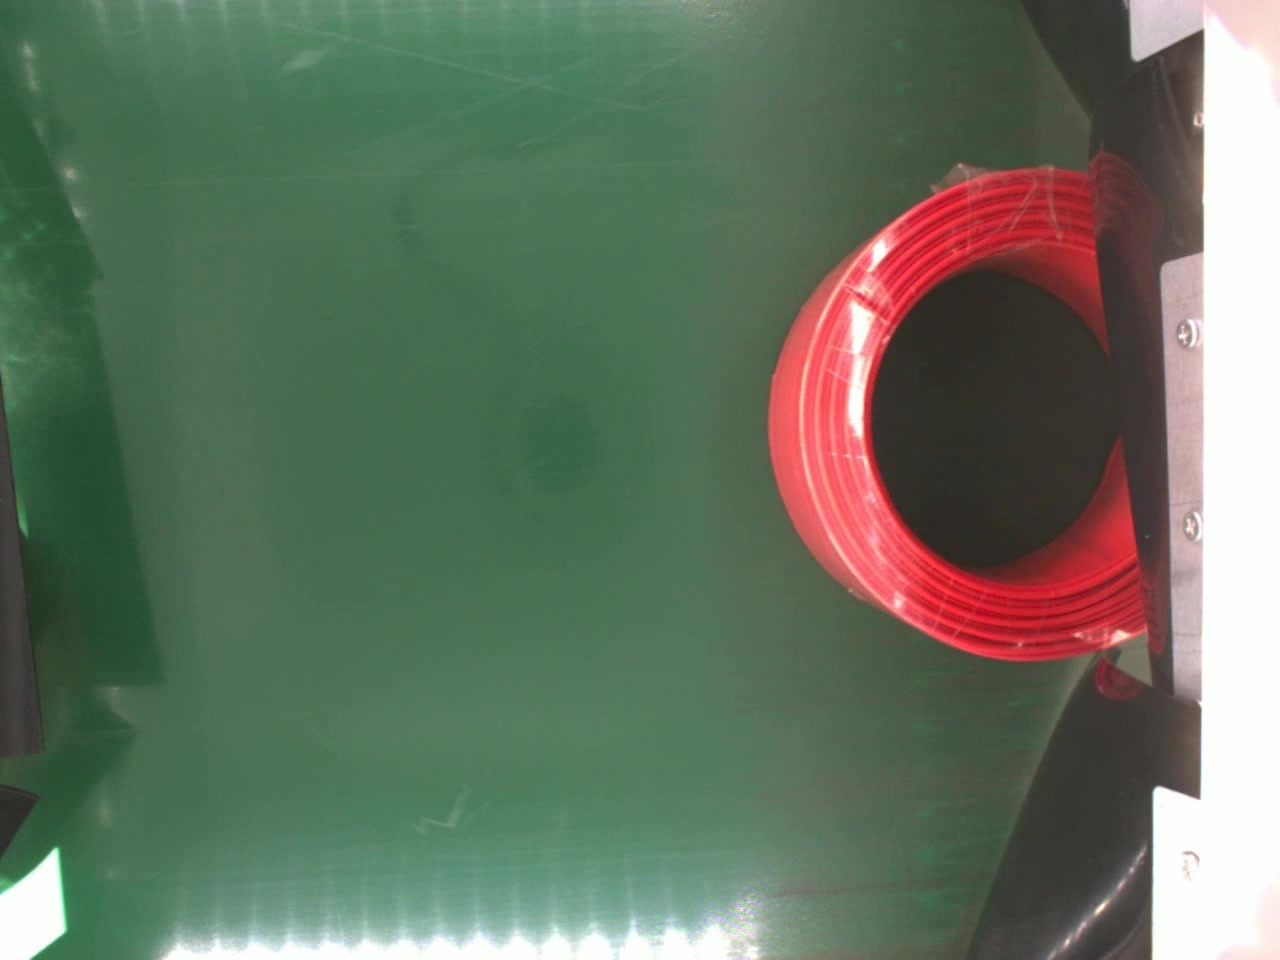red: (762, 159, 1147, 663)
